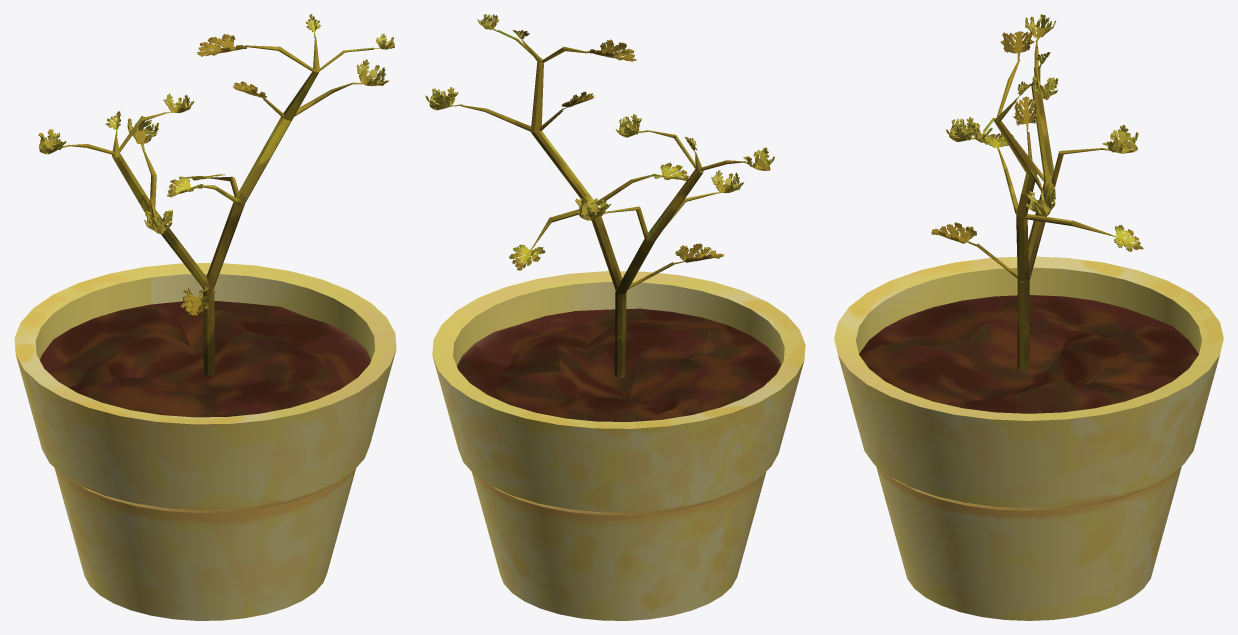
File: Pelargonium_Dead_End.glb
3 views of the same model, side by side, from view 1: azimuth 30°, elevation 25°; view 2: azimuth 150°, elevation 25°; view 3: azimuth 270°, elevation 25° (orthographic). The views are drawn at different scales.
Parts seen in each view (by area): view 1: Pot, Cylinder; view 2: Pot, Cylinder; view 3: Pot, Cylinder.
Part boxes in pixels (box(x1,y1,x2,y2)): Pot: box(14, 263, 396, 620); Cylinder: box(38, 14, 394, 375); Pot: box(432, 271, 805, 620); Cylinder: box(425, 14, 774, 377); Pot: box(834, 256, 1223, 620); Cylinder: box(931, 14, 1143, 370).
Size of the model in its own units: 2.17 by 3.12 by 2.05.
4 materials, 4 textured.
